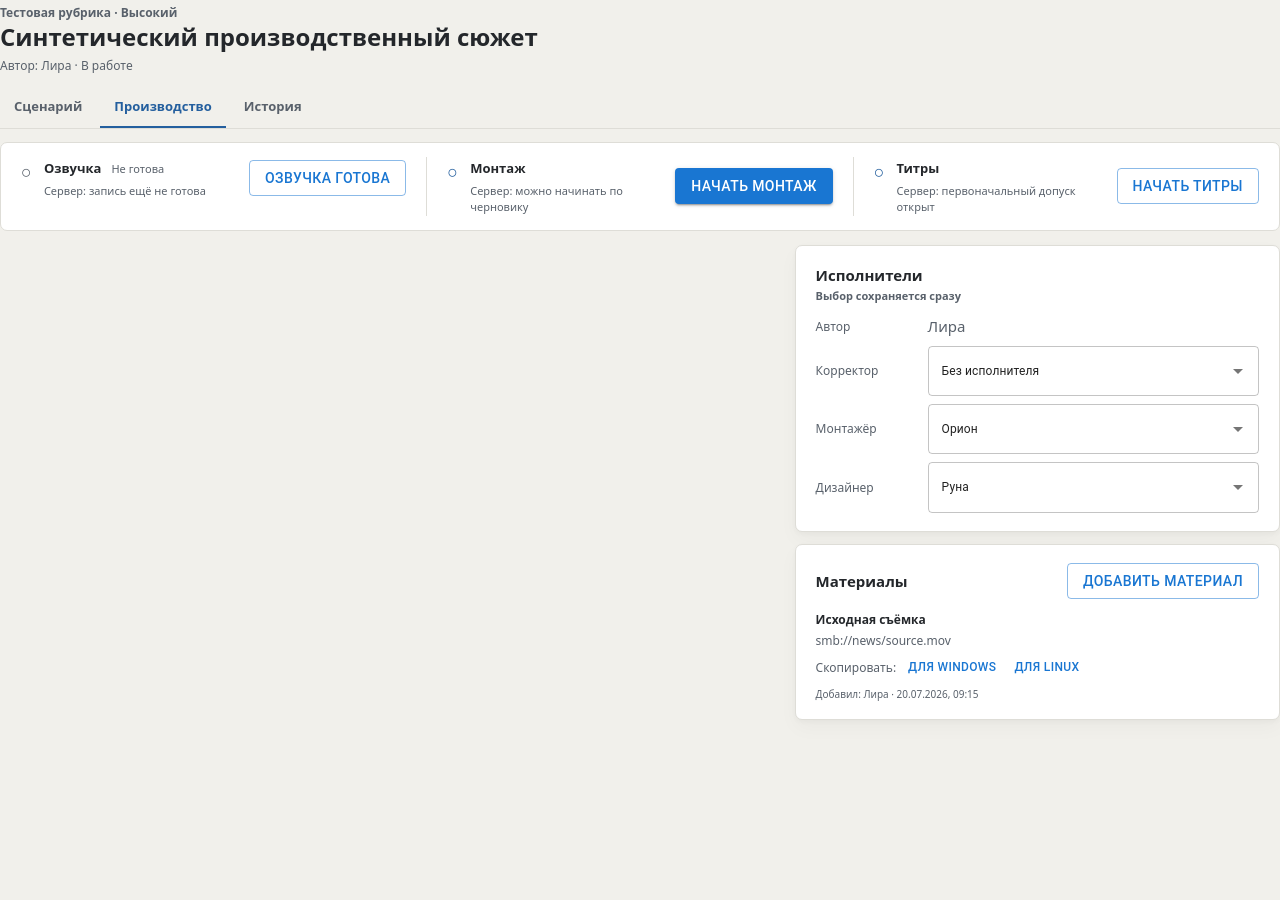
Test case: StoryProductionPage server read model › adds a normalized material without page reload and refreshes both read models
The image size is (1280, 900).
Expected: the heading "Синтетический производственный сюжет" is shown, [0,21,538,53]
Click the button "Добавить материал".
click(1163, 581)  # box [1067,562,1259,599]
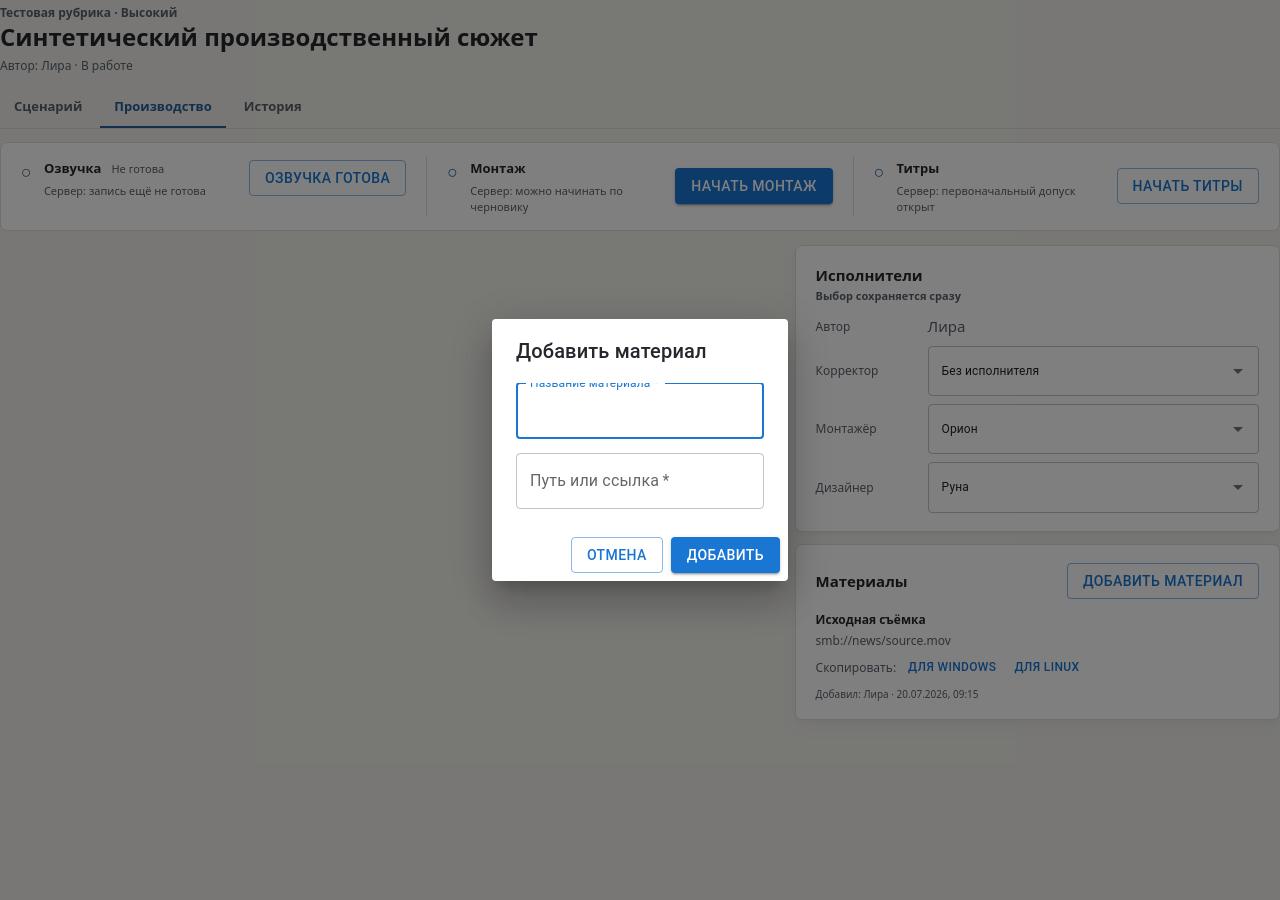
Type "Карта" into the field labelled "Название материала".
click(640, 411); type("Карта")  # box [516,383,764,439]
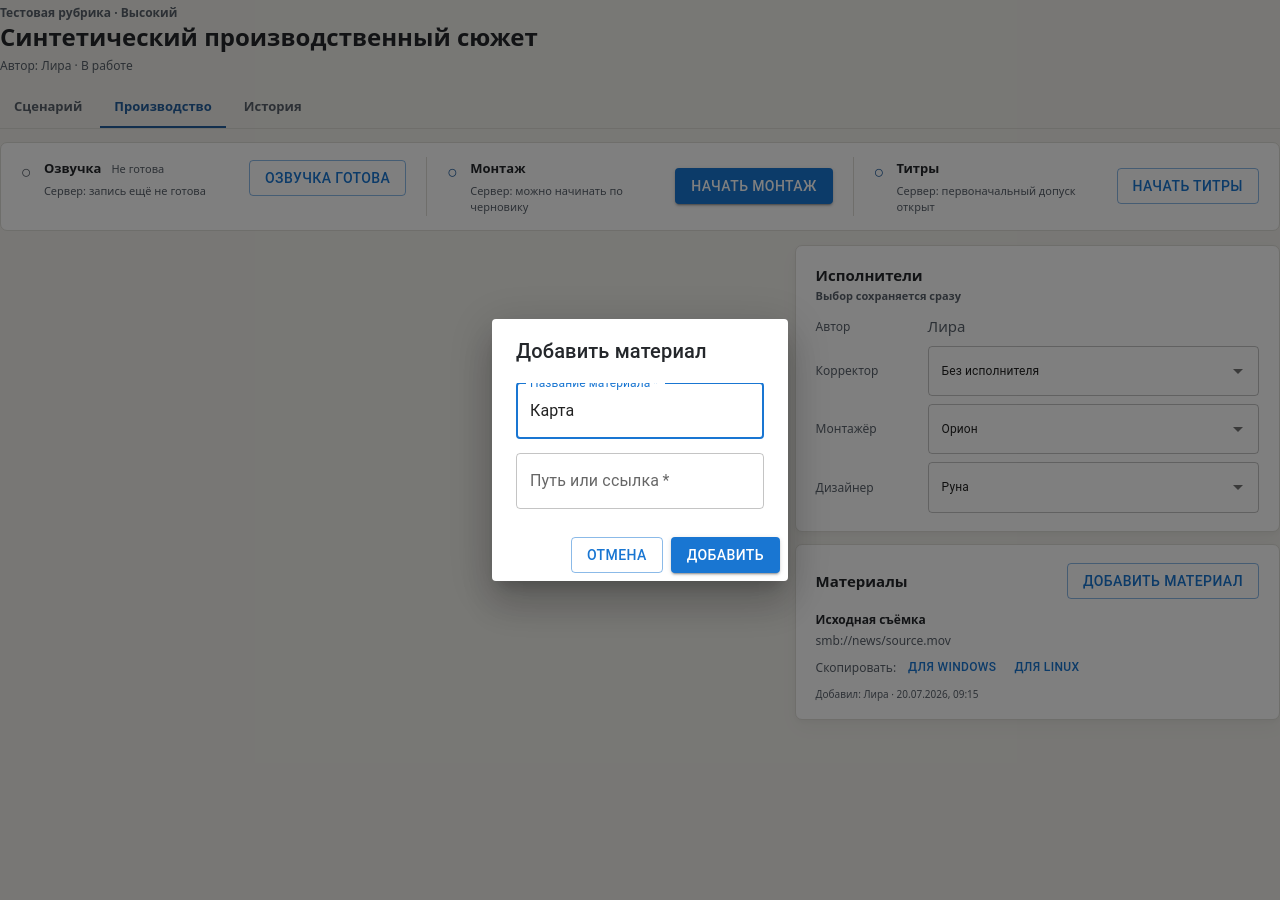
Type "https://example.invalid/map" into the field labelled "Путь или ссылка".
click(640, 481); type("https://example.invalid/map")  # box [516,453,764,509]
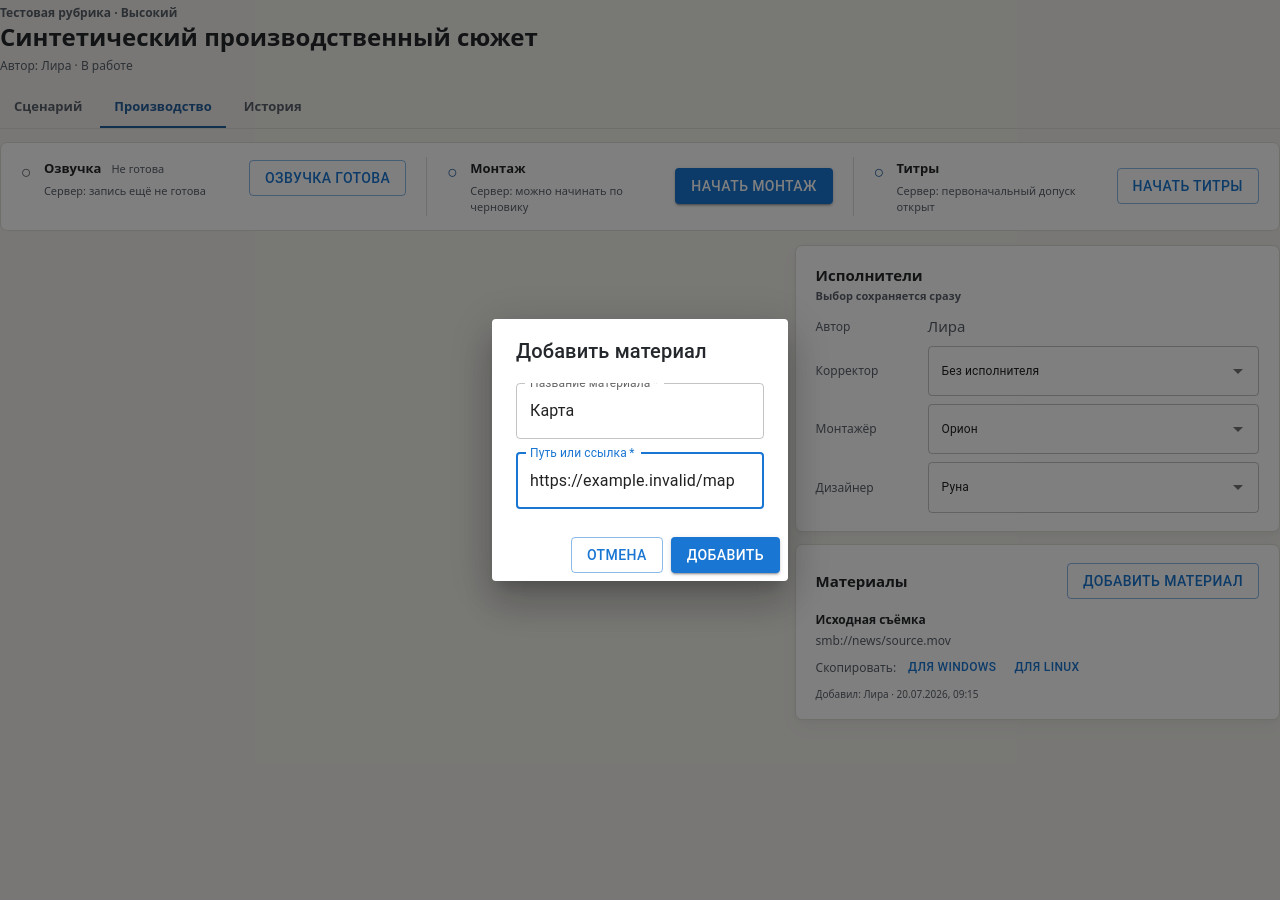
Click the button "Добавить".
click(725, 555)  # box [671,537,780,573]
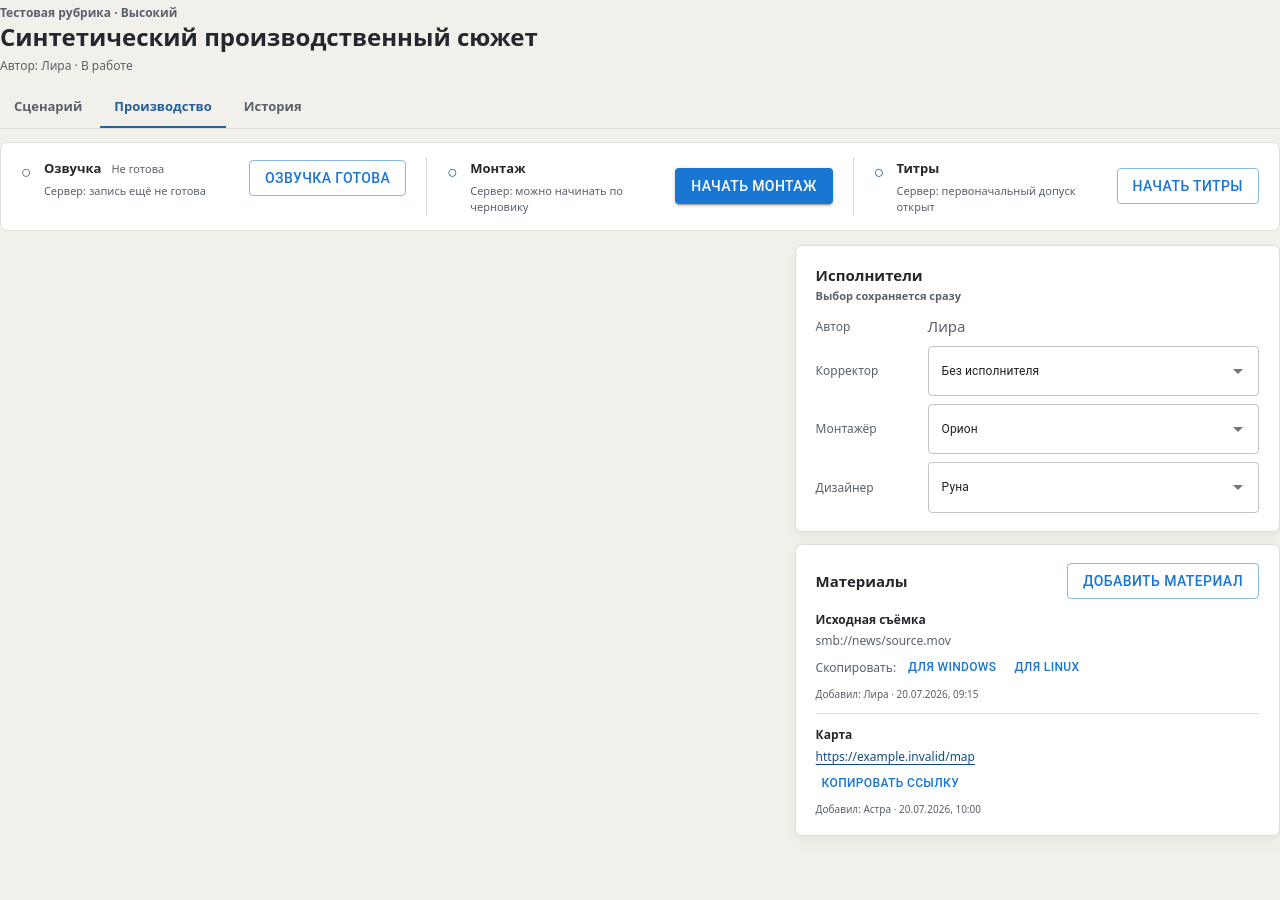
Expected: the text "Карта" is shown, [816,726,852,743]
